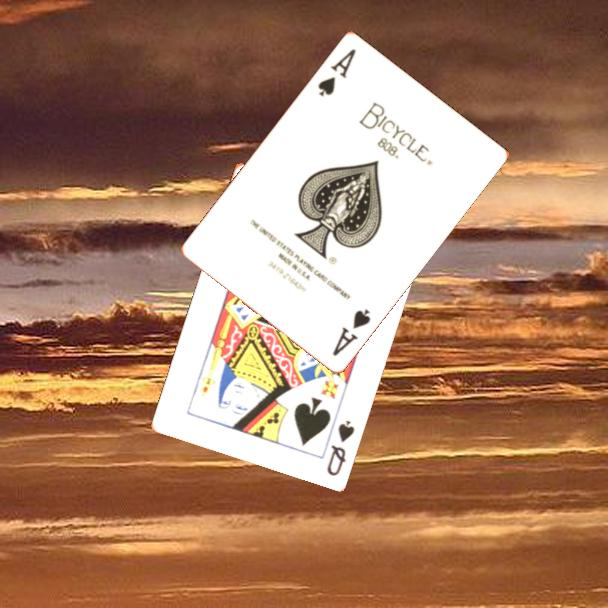s01: (314, 44, 359, 99), (329, 305, 374, 359)
s12: (323, 416, 357, 478)
